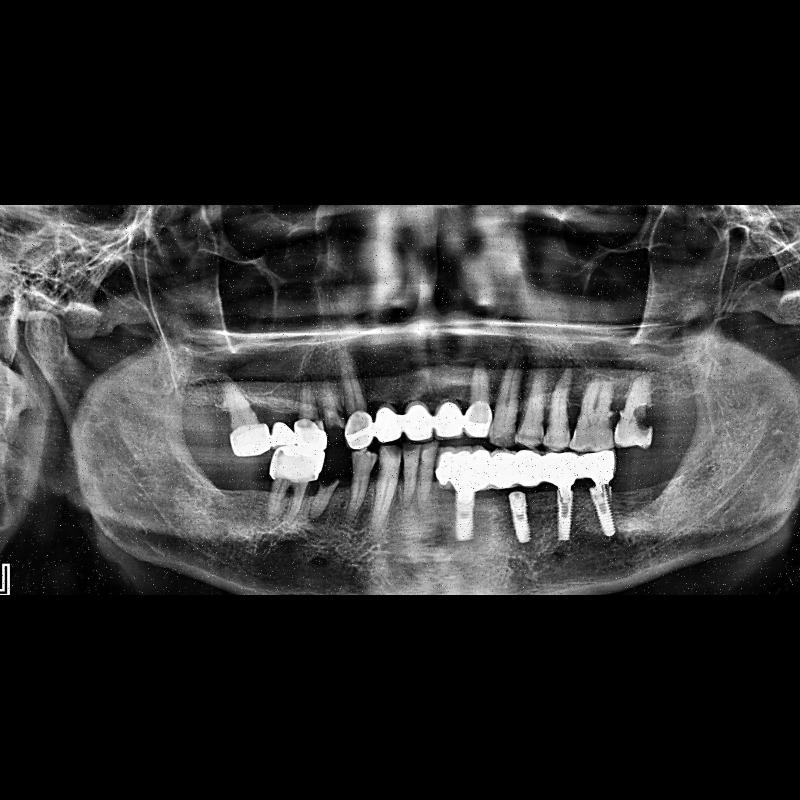osstem: (548, 490, 584, 546), (586, 485, 618, 545), (503, 493, 538, 545)
